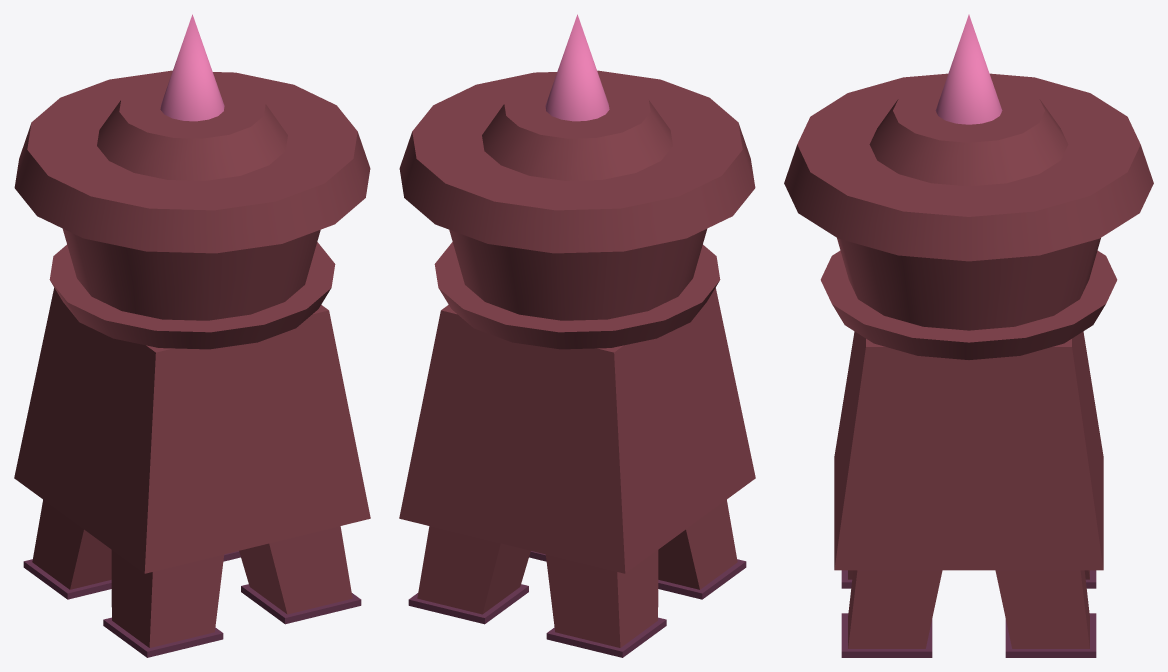
File: anitbug1_2.fbx
The picture shows the model from 3 angles, left to right: view 1: azimuth 30°, elevation 25°; view 2: azimuth 150°, elevation 25°; view 3: azimuth 270°, elevation 25°; orthographic projection. The views are drawn at different scales.
Parts seen in each view (by area): view 1: Cube; view 2: Cube; view 3: Cube.
Boxes of the visible parts, <box> form: Cube: <box>14,14,370,657</box>; Cube: <box>399,14,755,657</box>; Cube: <box>784,14,1153,657</box>.
Bounding box in the file's own units: 275 × 484 × 275.
